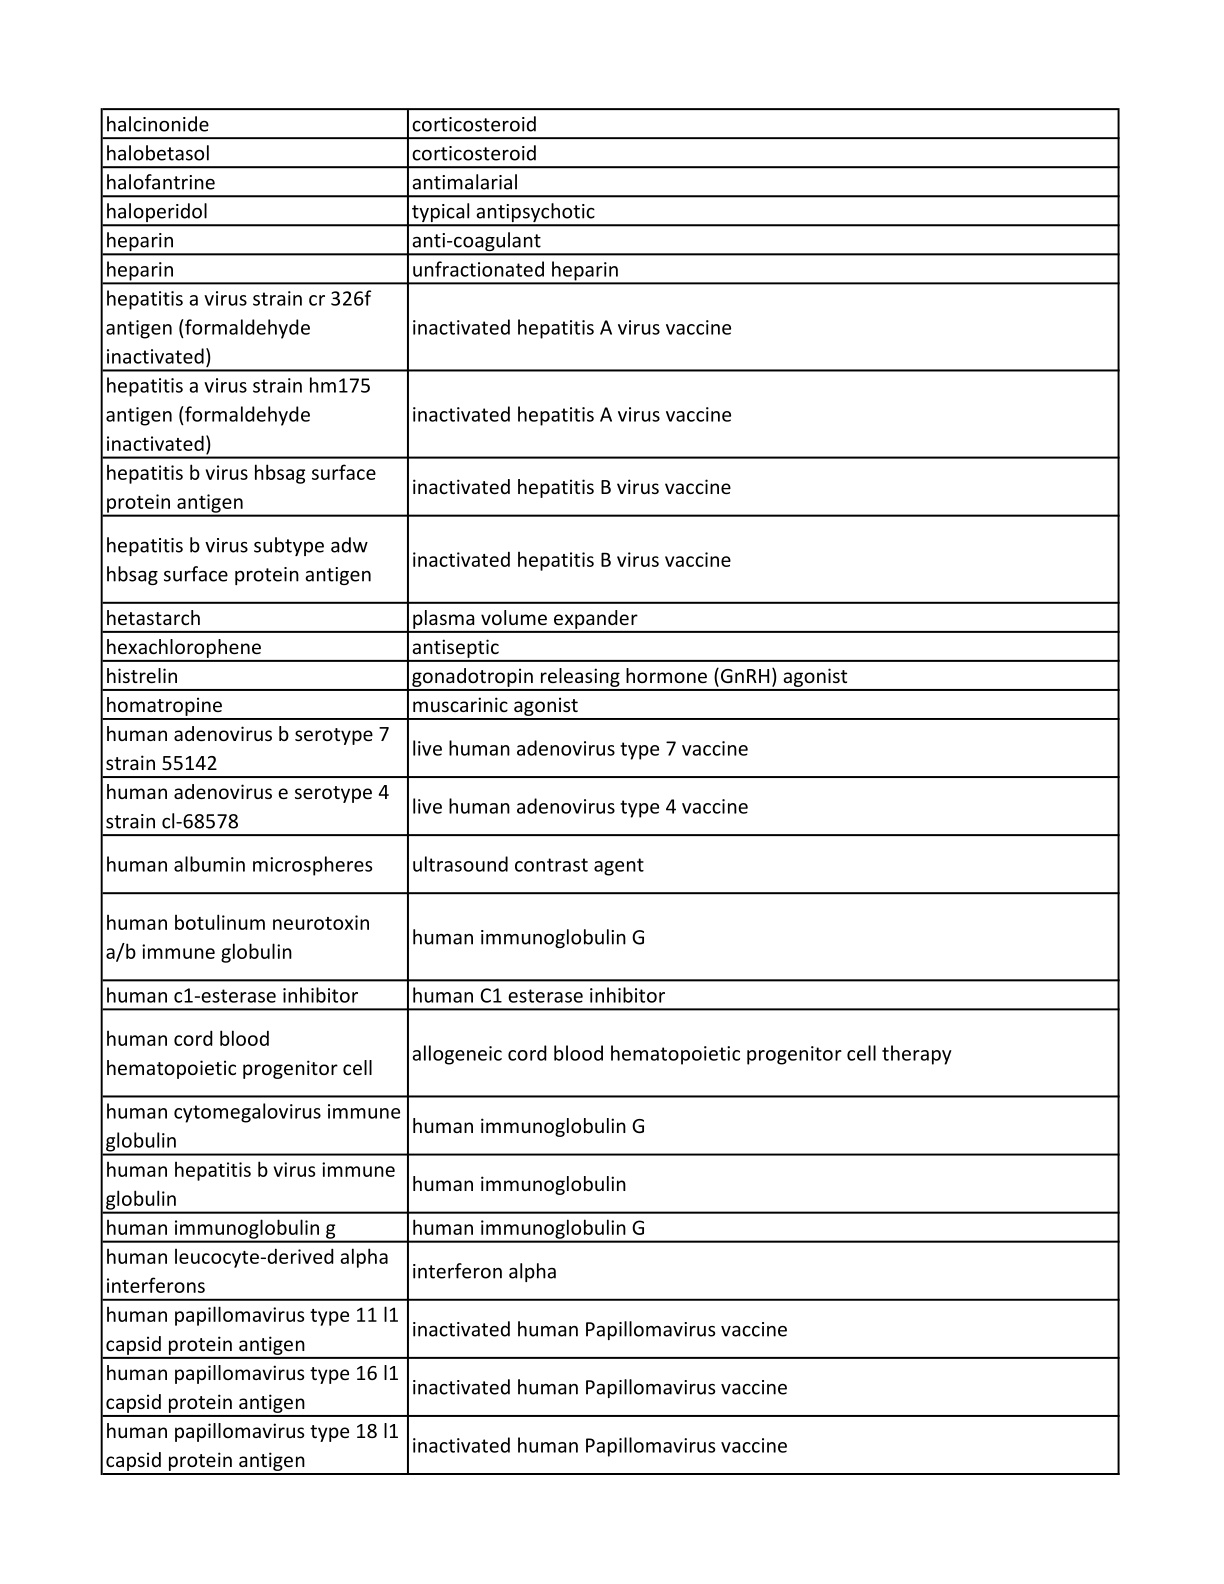full_lined: (99, 105, 1120, 1475)
